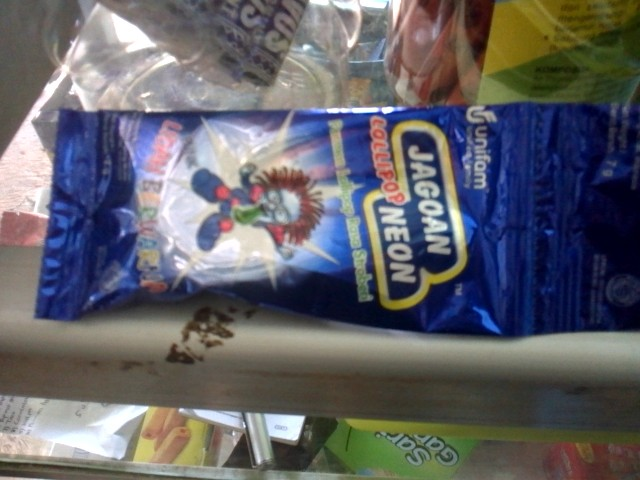jagoan neon: (35, 103, 542, 338)
